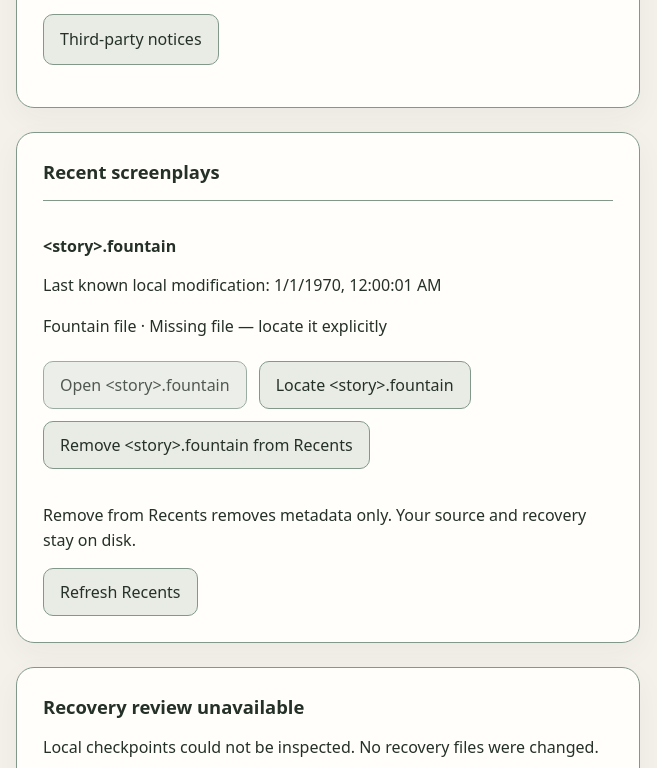
Test: M4-02 Home (injected native ports) › disables unsafe linking and makes picker cancellation truthful
The width and height of the screenshot is (657, 768).
(page scrolled)
Check: the heading "<story>.fountain" is shown, box [43,235,176,257]
Click the button "Locate <story>.fountain" at [365, 385], box [259,361,470,409]
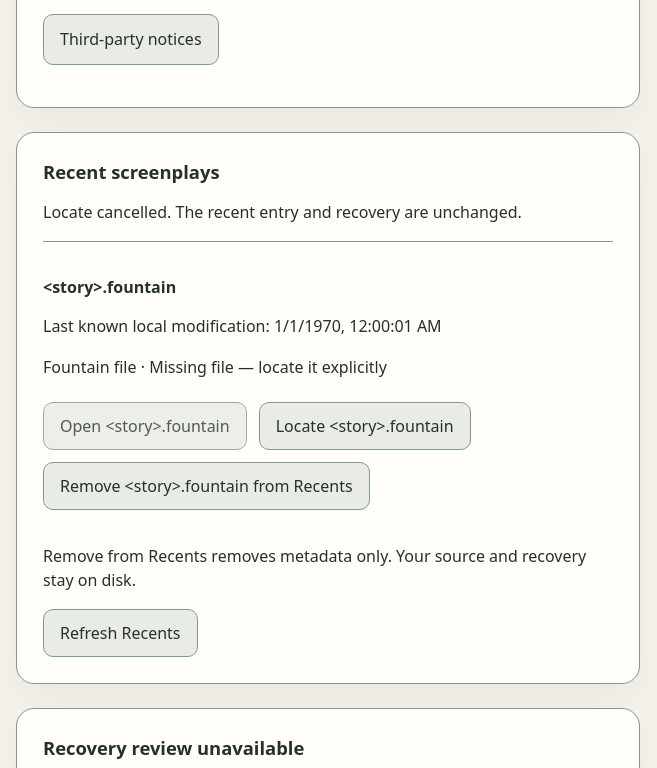
Check: the text "Locate cancelled. The recent entry and recovery are unchanged." is shown, box [43,201,522,223]
Click the button "Locate <story>.fountain" at [365, 426], box [259,402,470,450]
(page scrolled)
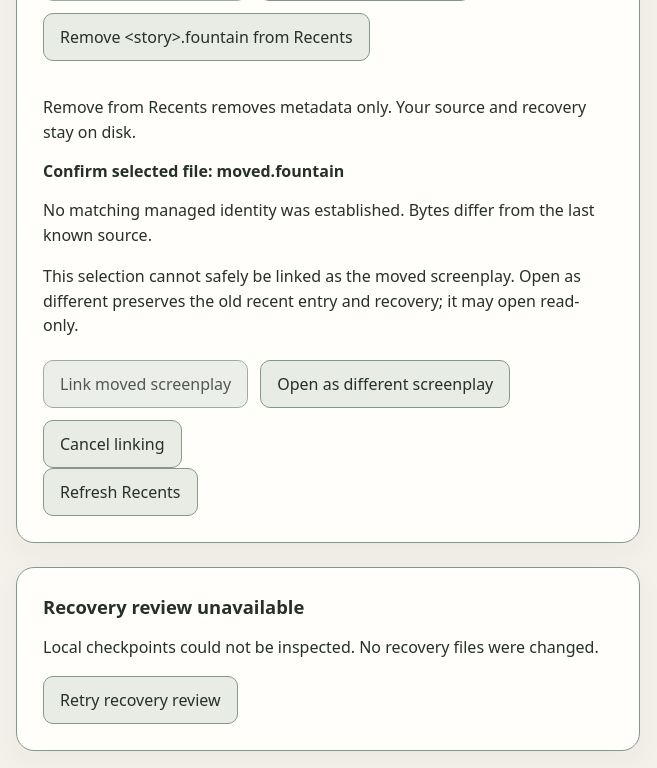
Check: the text "cannot safely be linked" is shown, box [43,265,515,287]
Check: the button "Link moved screenplay" is disabled, box [43,360,248,408]
Check: the button "Open as different screenplay" is enabled, box [260,360,510,408]
